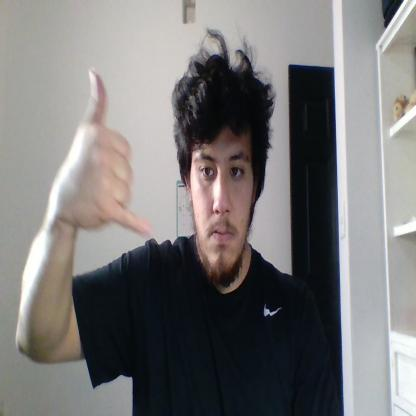Y: (68, 68, 152, 236)
